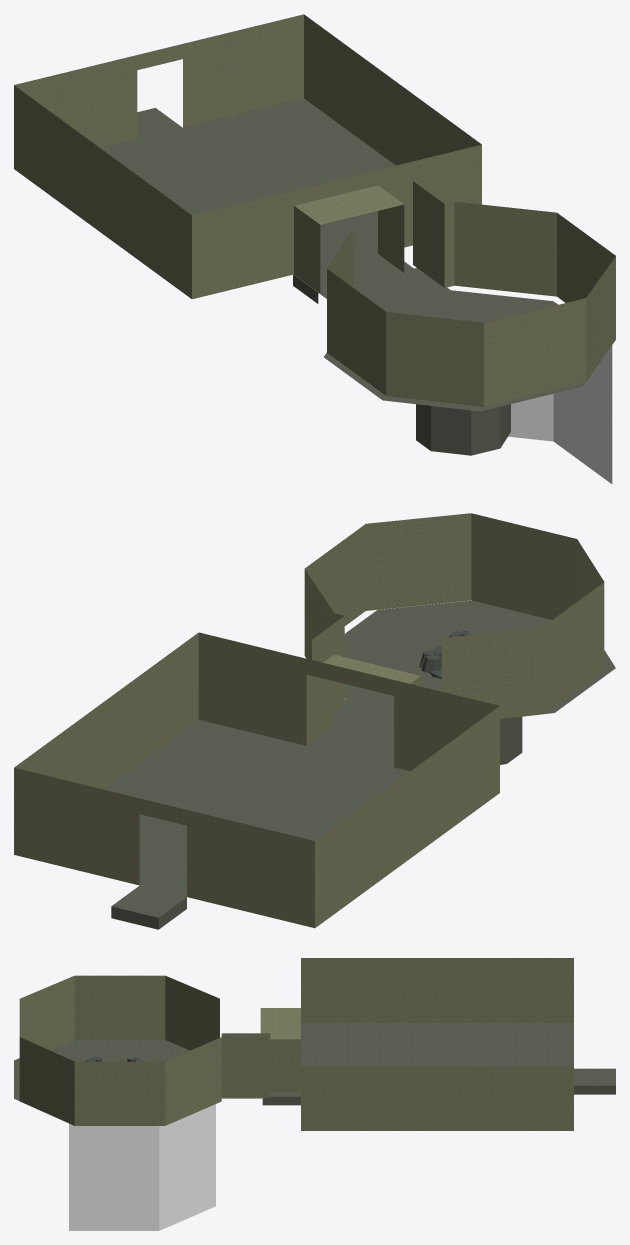
File: ROOM_Far.fbx
3 renders of one model, top to bottom at view 1: azimuth 30°, elevation 25°; view 2: azimuth 150°, elevation 25°; view 3: azimuth 270°, elevation 25°, orthographic. The views are drawn at different scales.
Parts seen in each view (by area): view 1: ROOM_Enter__1_, ROOM_ElevatorWall, ROOM_Elevator; view 2: ROOM_Enter__1_, ROOM_ElevatorWall, ROOM_Elevator, BaseElevatorDecim_uv1; view 3: ROOM_Enter__1_, ROOM_ElevatorWall, ROOM_Elevator.
Boxes of the visible parts, x1=… form: ROOM_Enter__1_: x1=14, y1=14, x2=481, y2=299; ROOM_ElevatorWall: x1=327, y1=181, x2=615, y2=406; ROOM_Elevator: x1=293, y1=258, x2=612, y2=483; ROOM_Enter__1_: x1=14, y1=632, x2=499, y2=929; ROOM_ElevatorWall: x1=304, y1=513, x2=604, y2=718; ROOM_Elevator: x1=294, y1=600, x2=615, y2=764; BaseElevatorDecim_uv1: x1=419, y1=630, x2=472, y2=678; ROOM_Enter__1_: x1=260, y1=958, x2=615, y2=1130; ROOM_ElevatorWall: x1=19, y1=975, x2=270, y2=1125; ROOM_Elevator: x1=14, y1=1040, x2=301, y2=1230.
Size of the model in its own units: 3975 by 2938 by 9315.
